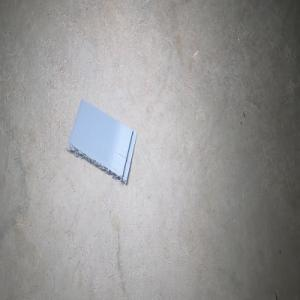PlasticPart: (66, 98, 137, 185)
